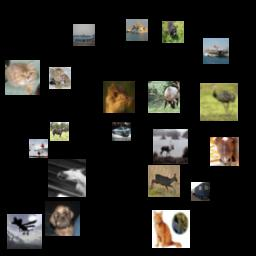airplane: (7, 214, 42, 249), (73, 24, 95, 46)
automobile: (112, 122, 131, 141)
bird: (200, 83, 238, 121), (103, 81, 135, 113)
cat: (152, 210, 190, 248), (5, 60, 40, 95), (49, 67, 71, 89)
deer: (153, 129, 188, 164), (148, 81, 180, 113), (148, 165, 180, 197)
dog: (45, 201, 80, 236), (162, 21, 184, 43)
ship: (203, 38, 229, 64), (126, 19, 148, 41), (29, 139, 48, 158)
truck: (191, 182, 210, 201)
